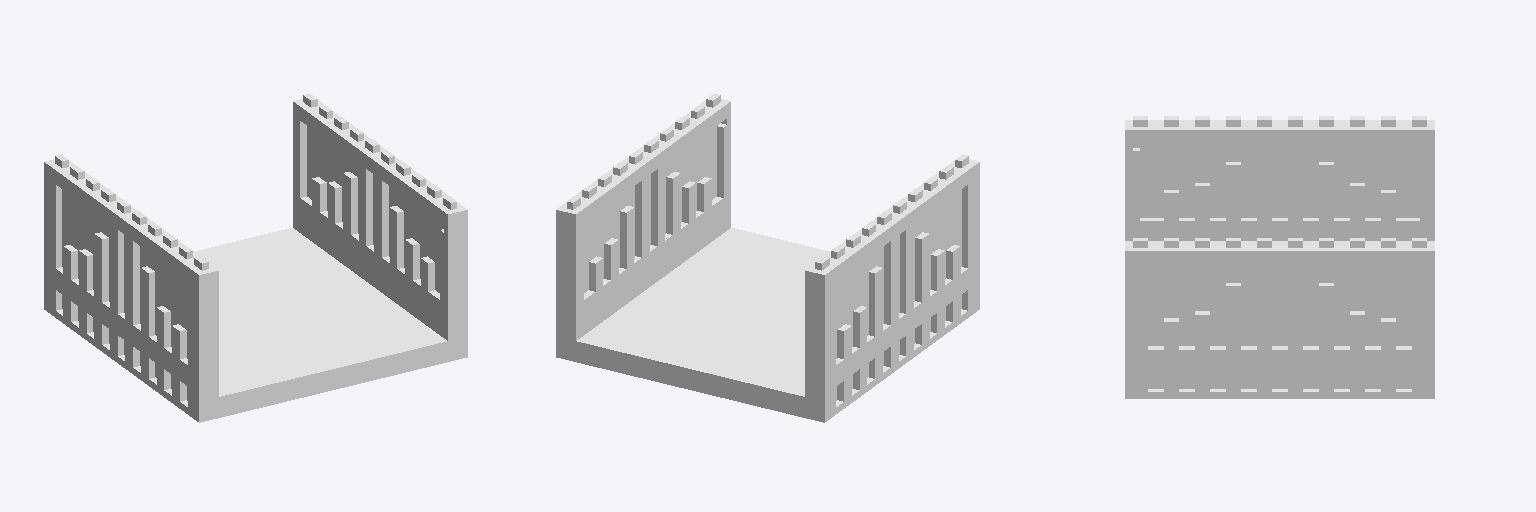
Rendered from tort-0-1X1.obj.
The picture shows the model from 3 angles: view 1: azimuth 30°, elevation 25°; view 2: azimuth 150°, elevation 25°; view 3: azimuth 270°, elevation 25°; orthographic projection.
Visible parts, largest first — view 1: 1X1; view 2: 1X1; view 3: 1X1.
Part boxes in pixels (x1,y1,x2,y2): 1X1: (44, 94, 467, 422); 1X1: (556, 94, 979, 422); 1X1: (1125, 116, 1434, 398).
Bounding box in the file's own units: 4 × 2.2 × 4.